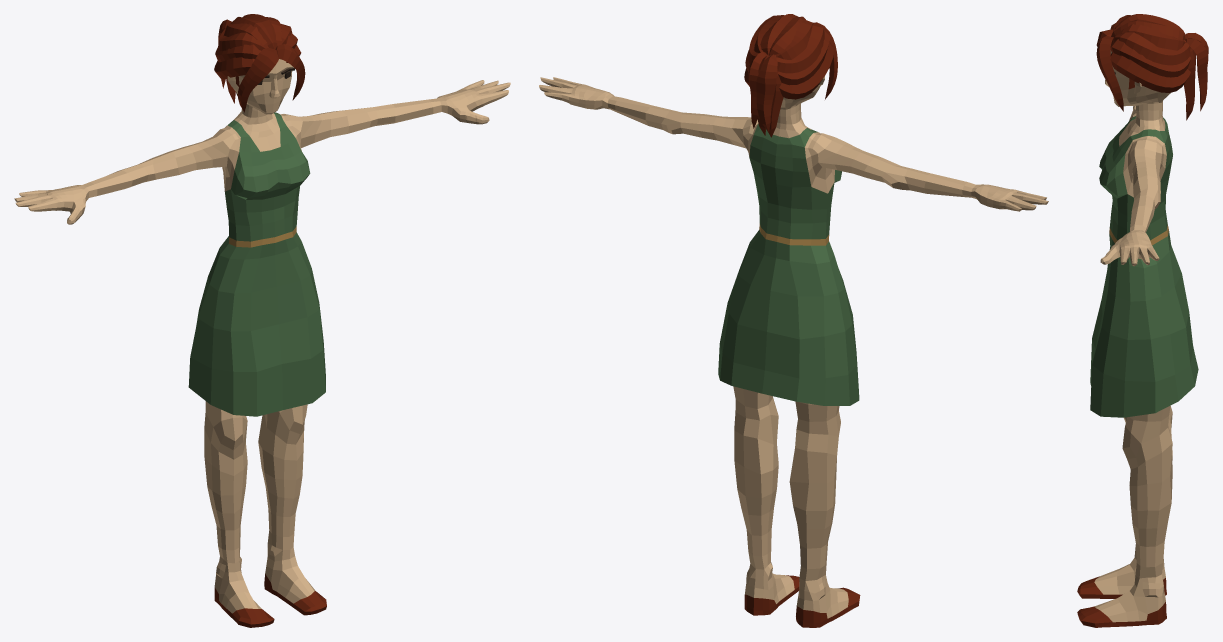
The model's file is Formal.fbx.
The picture shows the model from 3 angles, left to right: view 1: azimuth 30°, elevation 25°; view 2: azimuth 150°, elevation 25°; view 3: azimuth 270°, elevation 25°; orthographic projection. The views are drawn at different scales.
Visible parts, largest first — view 1: Formal_Legs, Formal_Body, Formad_Head, Formal_Feet; view 2: Formal_Legs, Formal_Body, Formad_Head, Formal_Feet; view 3: Formal_Legs, Formal_Body, Formad_Head, Formal_Feet.
Boxes of the visible parts, left/top/right/bottom form: Formal_Legs: left=188, top=241, right=325, bottom=550; Formal_Body: left=14, top=80, right=510, bottom=259; Formad_Head: left=214, top=14, right=305, bottom=117; Formal_Feet: left=214, top=530, right=326, bottom=627; Formal_Legs: left=718, top=242, right=859, bottom=569; Formal_Body: left=539, top=77, right=1048, bottom=263; Formad_Head: left=744, top=14, right=837, bottom=137; Formal_Feet: left=744, top=550, right=860, bottom=627; Formal_Legs: left=1090, top=245, right=1198, bottom=567; Formal_Body: left=1099, top=106, right=1172, bottom=268; Formad_Head: left=1096, top=14, right=1208, bottom=120; Formal_Feet: left=1077, top=544, right=1166, bottom=627.
Size of the model in its own units: 165 by 184 by 37.24.
